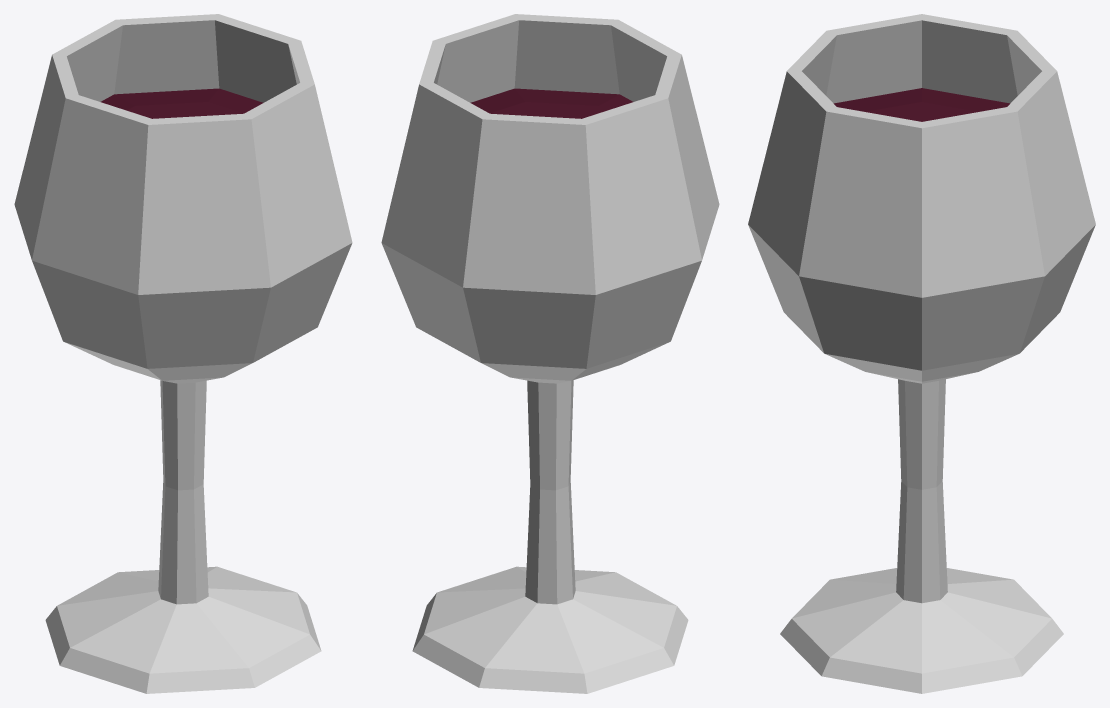
File: Glass_wine_full.fbx
3 views of the same model, side by side, from view 1: azimuth 30°, elevation 25°; view 2: azimuth 150°, elevation 25°; view 3: azimuth 270°, elevation 25° (orthographic).
Visible parts, largest first — view 1: Glass_wine_full; view 2: Glass_wine_full; view 3: Glass_wine_full.
Part boxes in pixels (x1,y1,x2,y2): Glass_wine_full: (14, 14, 352, 693); Glass_wine_full: (381, 14, 719, 693); Glass_wine_full: (748, 14, 1095, 693).
Size of the model in its own units: 0.1165 by 0.2079 by 0.1165.
